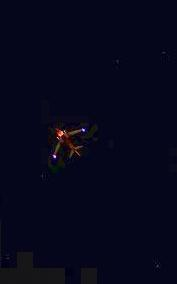Plane: (24, 103, 146, 175)
